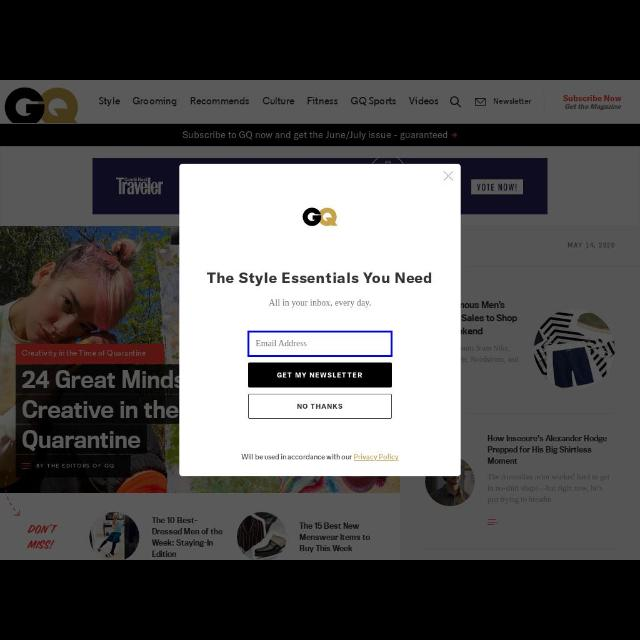icon: (450, 96, 462, 108), (444, 170, 454, 182), (487, 516, 498, 526), (474, 98, 486, 106)
image: (1, 228, 401, 492), (93, 157, 547, 215), (532, 312, 616, 388), (7, 88, 78, 124), (90, 512, 140, 558), (426, 459, 474, 506), (238, 513, 286, 559), (26, 525, 60, 549), (302, 208, 338, 228)
input: (247, 330, 391, 356)
text: (488, 434, 608, 466), (488, 472, 610, 503), (182, 130, 448, 142), (151, 516, 225, 558), (209, 273, 433, 285), (300, 520, 372, 554), (462, 301, 518, 337), (462, 344, 520, 366), (242, 454, 402, 461), (562, 94, 624, 112), (270, 299, 372, 307), (190, 96, 250, 106), (132, 96, 178, 108), (278, 372, 362, 378), (567, 240, 615, 250), (254, 340, 308, 348), (296, 403, 344, 411), (352, 98, 398, 106), (492, 96, 532, 105), (408, 95, 438, 105), (262, 97, 294, 105), (306, 98, 338, 106), (98, 97, 120, 107)
textbutton: (248, 362, 392, 388), (250, 394, 392, 418)
toolbar: (3, 81, 639, 122)
